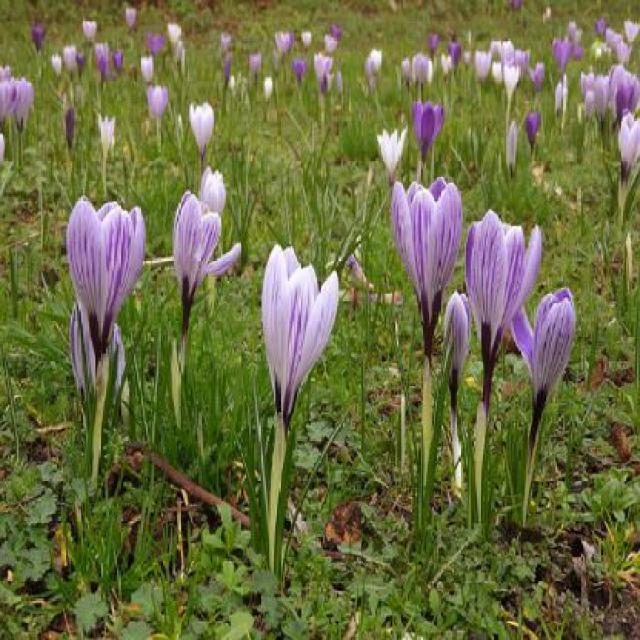Flower: (259, 238, 341, 422), (64, 192, 148, 358), (459, 219, 547, 363), (392, 178, 460, 328), (164, 188, 236, 309), (516, 287, 578, 418), (440, 294, 471, 400), (411, 101, 447, 154), (617, 115, 640, 187), (190, 102, 218, 156), (380, 128, 408, 172)
